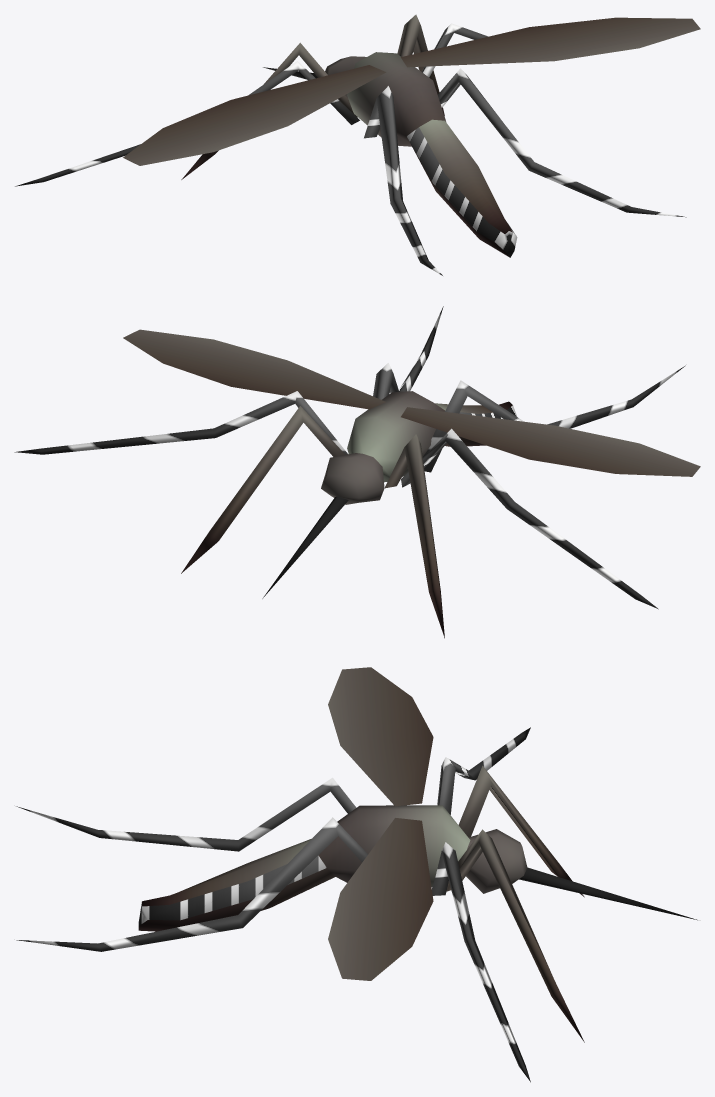
The model's file is SM_Mosquito.fbx.
3 renders of one model, top to bottom at view 1: azimuth 30°, elevation 25°; view 2: azimuth 150°, elevation 25°; view 3: azimuth 270°, elevation 25°, orthographic. The views are drawn at different scales.
Parts seen in each view (by area): view 1: SM_Mosquito; view 2: SM_Mosquito; view 3: SM_Mosquito.
Part boxes in pixels (bbox=[...]): SM_Mosquito: bbox=[15, 14, 700, 275]; SM_Mosquito: bbox=[14, 306, 700, 638]; SM_Mosquito: bbox=[16, 667, 697, 1082].
Bounding box in the file's own units: 0.614 × 0.1396 × 0.5012.
